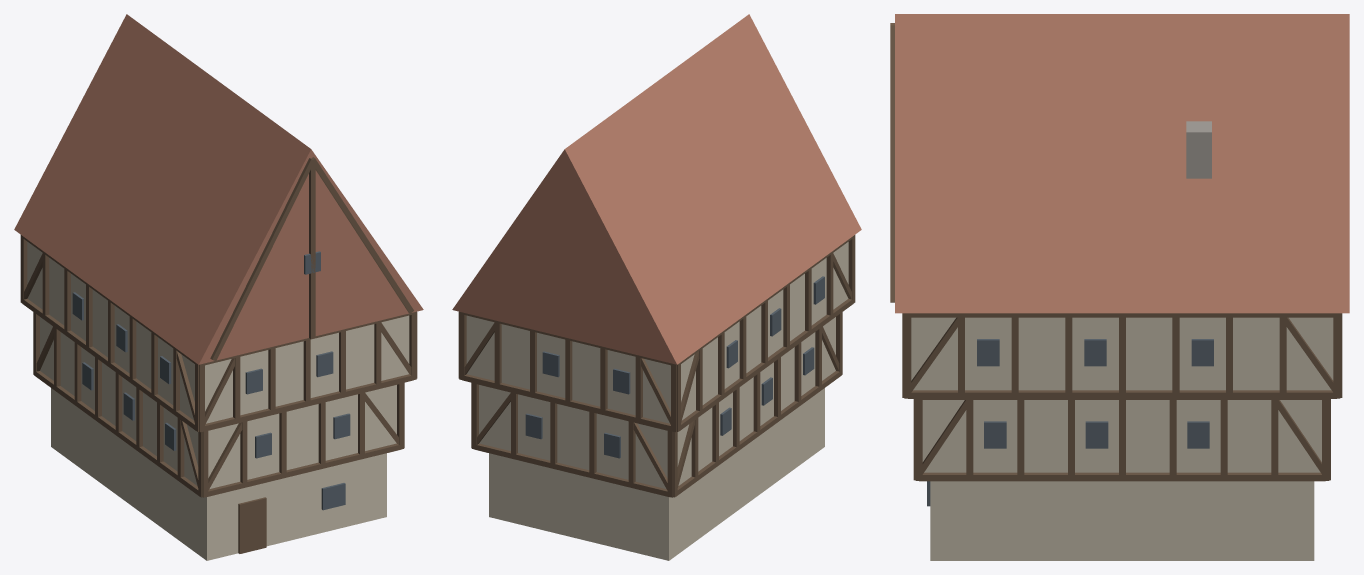
The model's file is m_haus_d.glb.
3 views of the same model, side by side, from view 1: azimuth 30°, elevation 25°; view 2: azimuth 150°, elevation 25°; view 3: azimuth 270°, elevation 25° (orthographic). The views are drawn at different scales.
Parts seen in each view (by area): view 1: koerper; view 2: koerper; view 3: koerper.
Boxes of the visible parts, x1=… form: koerper: x1=14, y1=14, x2=423, y2=560; koerper: x1=452, y1=14, x2=861, y2=560; koerper: x1=890, y1=14, x2=1349, y2=560.
Bounding box in the file's own units: 10 × 16.99 × 14.35.
